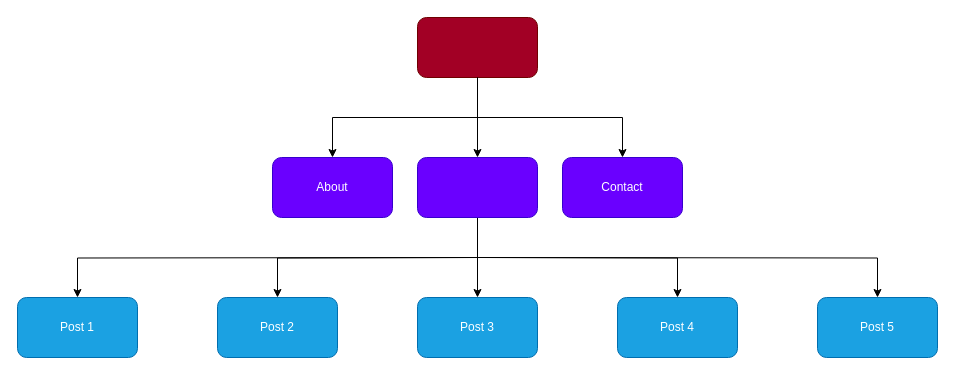
This 955x375 diagram has some shape labels left out. Here are the shapes that lost their labels. From the top down, the centre of each, then its label:
(477,47): Home
(477,187): Blog
